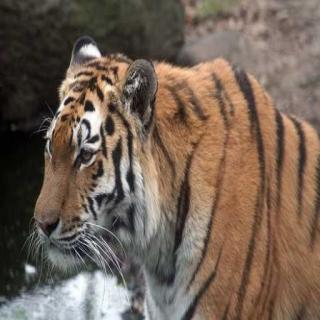Tiger: (15, 34, 320, 320)
